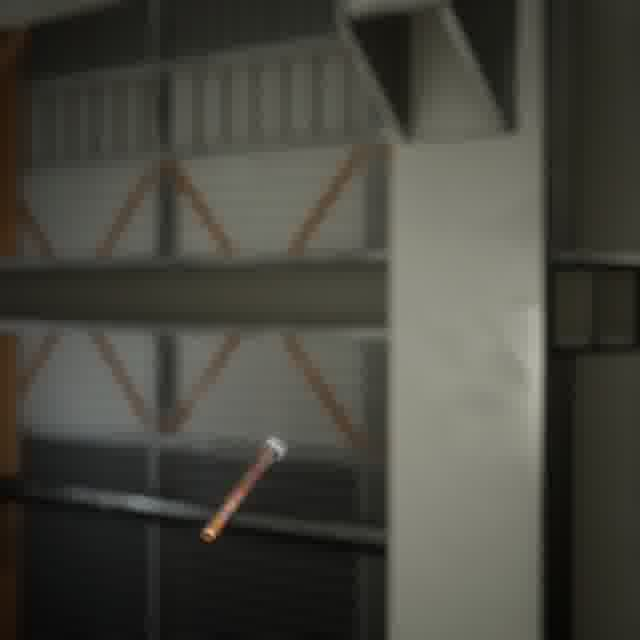bolt: (197, 431, 291, 546)
